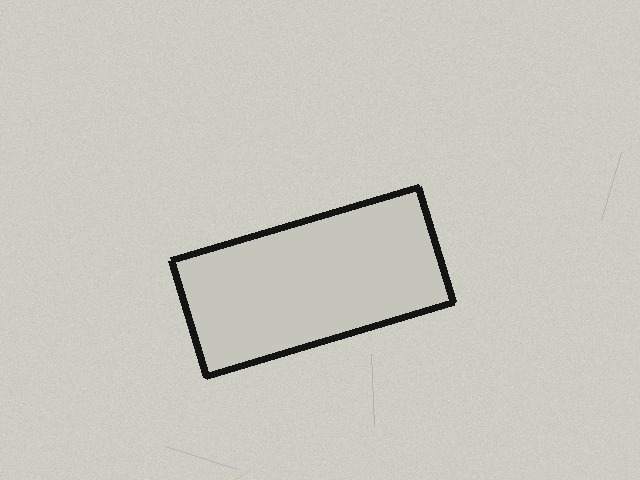parking_area: (171, 187, 453, 376)
